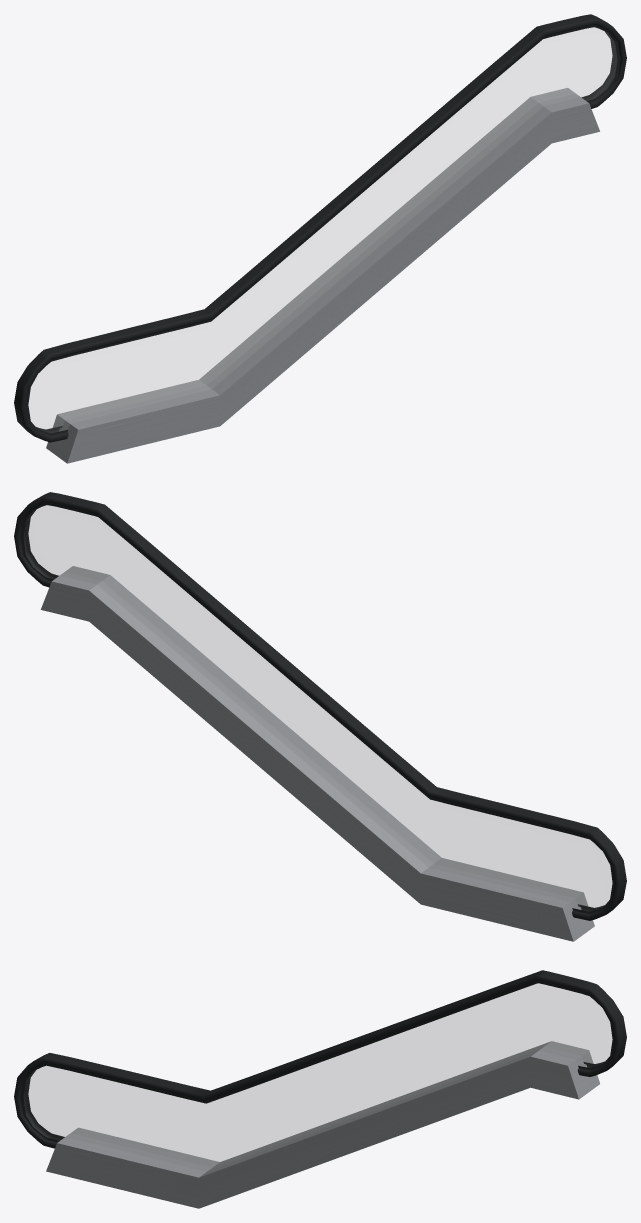
The model's file is Escalator.fbx.
The picture shows the model from 3 angles, top to bottom: view 1: azimuth 30°, elevation 25°; view 2: azimuth 150°, elevation 25°; view 3: azimuth 330°, elevation 25°; orthographic projection.
Parts seen in each view (by area): view 1: pCube27; view 2: pCube27; view 3: pCube27.
Boxes of the visible parts, x1=… form: pCube27: x1=14, y1=14, x2=626, y2=463; pCube27: x1=14, y1=492, x2=626, y2=941; pCube27: x1=14, y1=970, x2=626, y2=1208.
Bounding box in the file's own units: 53.08 × 25.88 × 3.22.
Materials: 2 (1 with a texture image).
